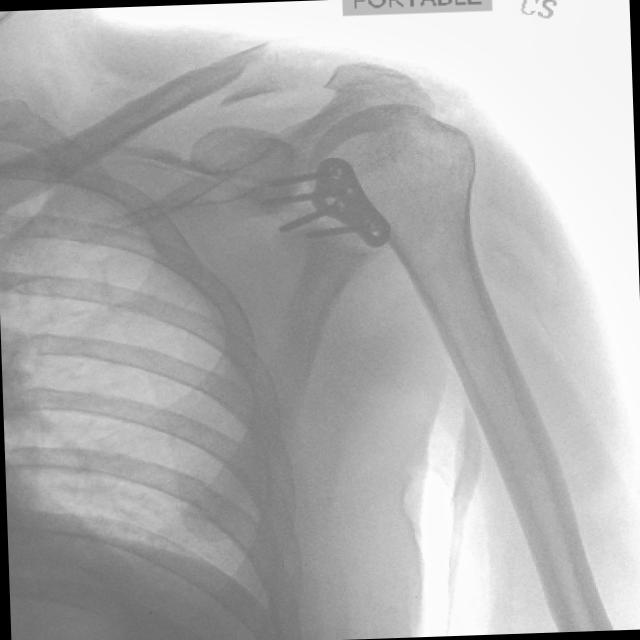shoulder fracture: (167, 19, 323, 141)
